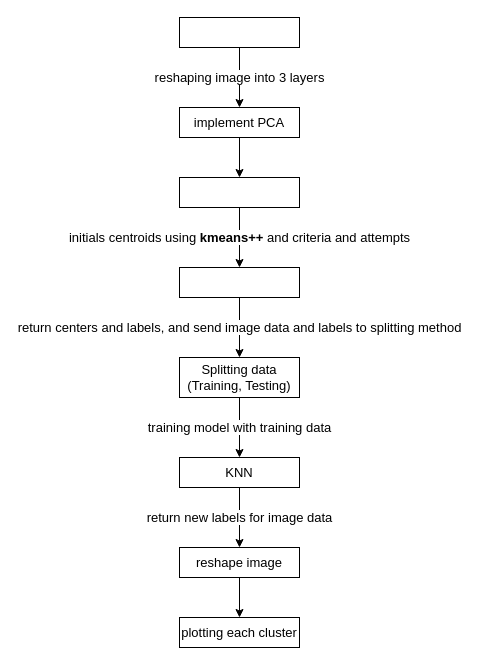
Some shapes in this 478 by 665 pixel diagram are drawn without their labels. The box of each missing label's shape, as (x1, y1, x2, y2) in pixels:
Input Image: (178, 16, 300, 48)
K-Means: (178, 266, 300, 298)
Select N_Clusters: (178, 176, 300, 208)
